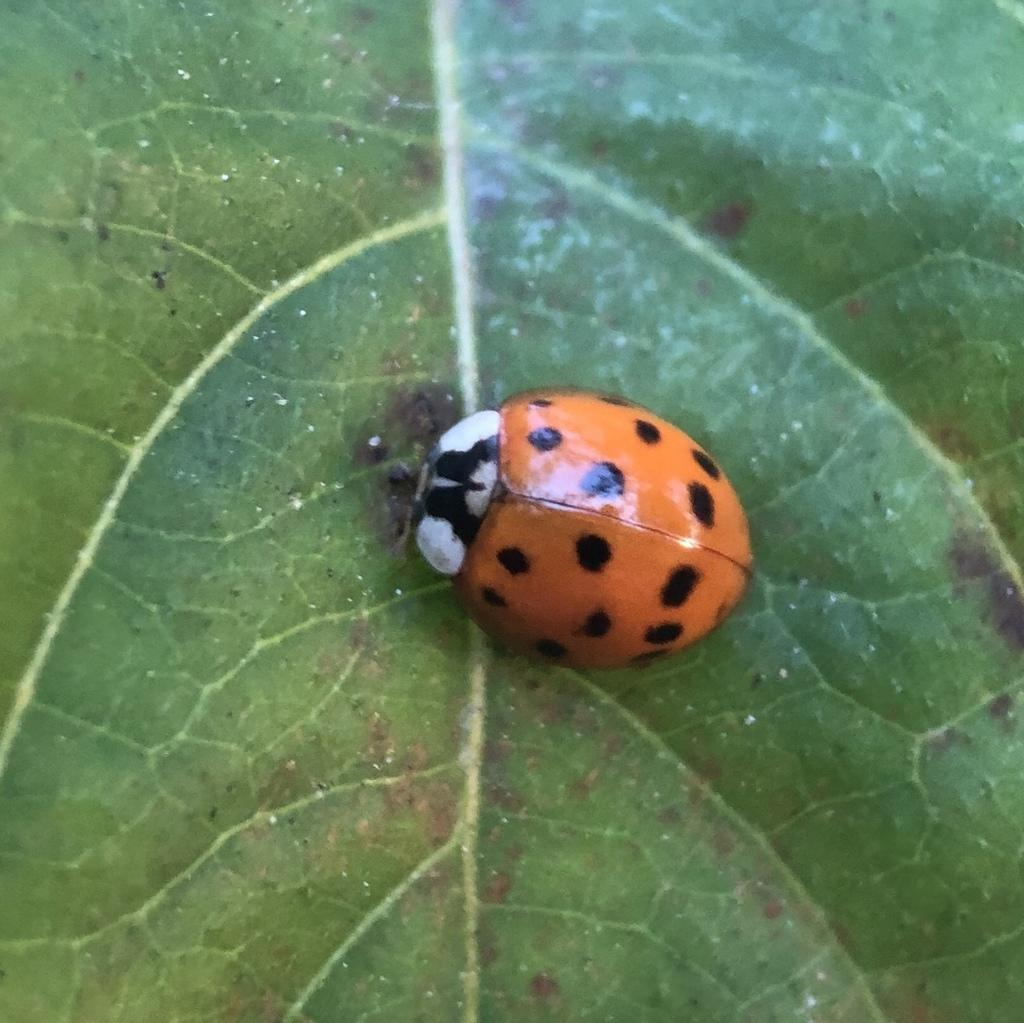ladybug: (401, 384, 764, 674)
